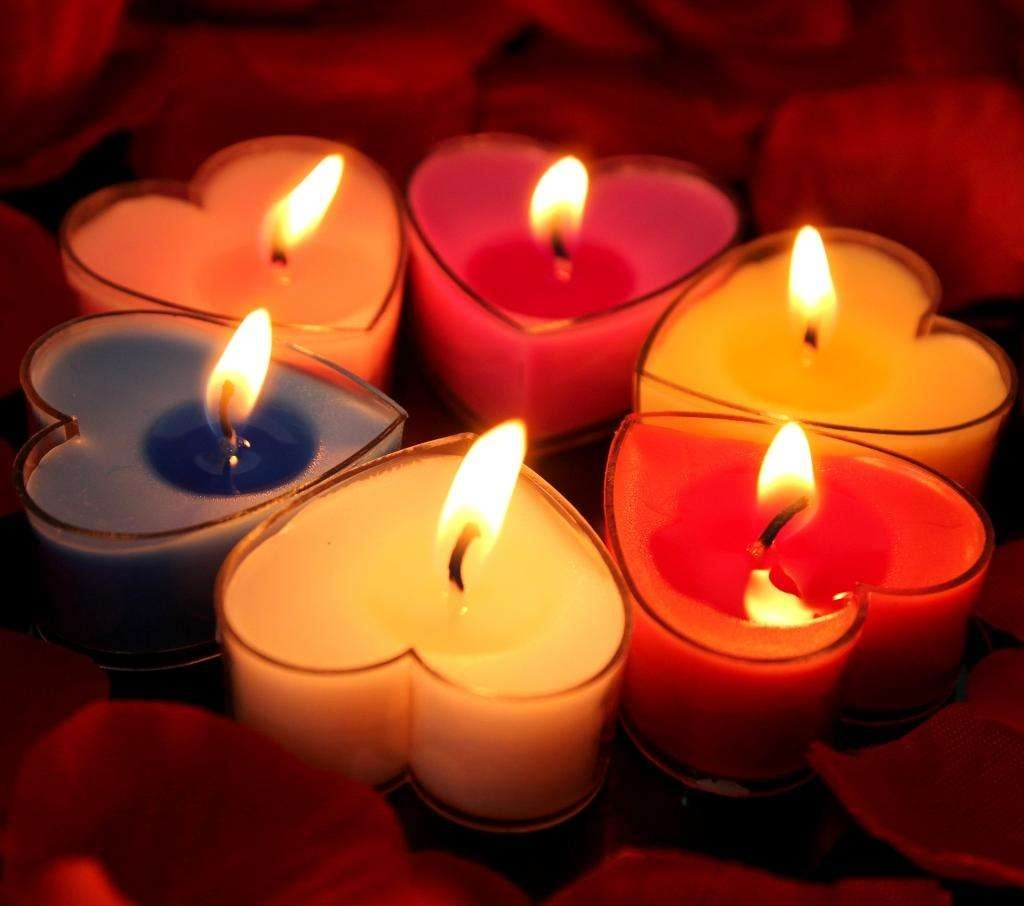fire: (433, 415, 526, 581), (257, 146, 350, 261), (200, 300, 275, 438), (751, 410, 819, 523), (524, 149, 591, 259), (784, 217, 837, 344)
